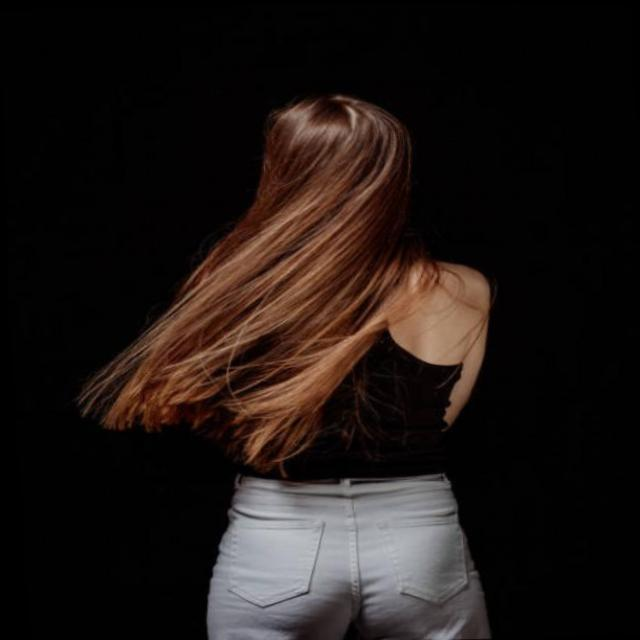no helmet: (261, 95, 419, 251)
